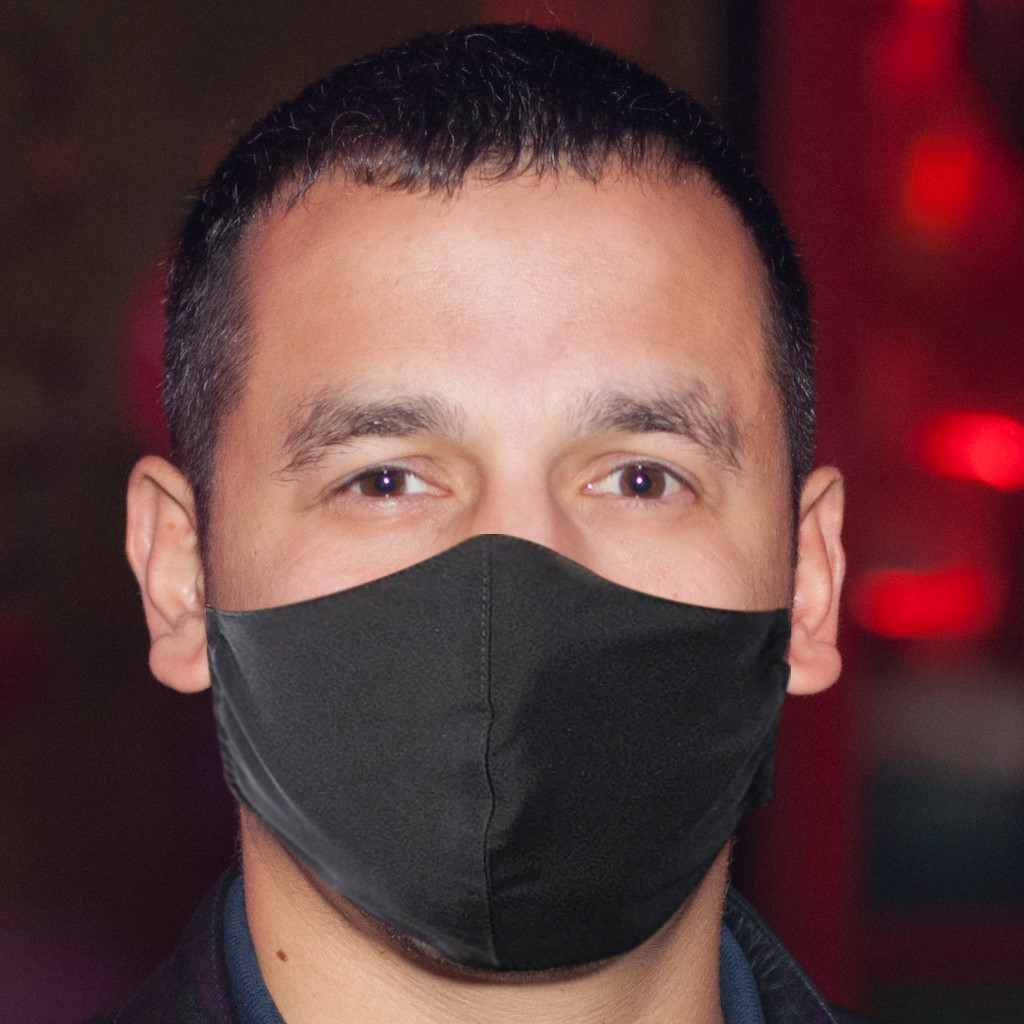con_mascara: (185, 113, 817, 979)
